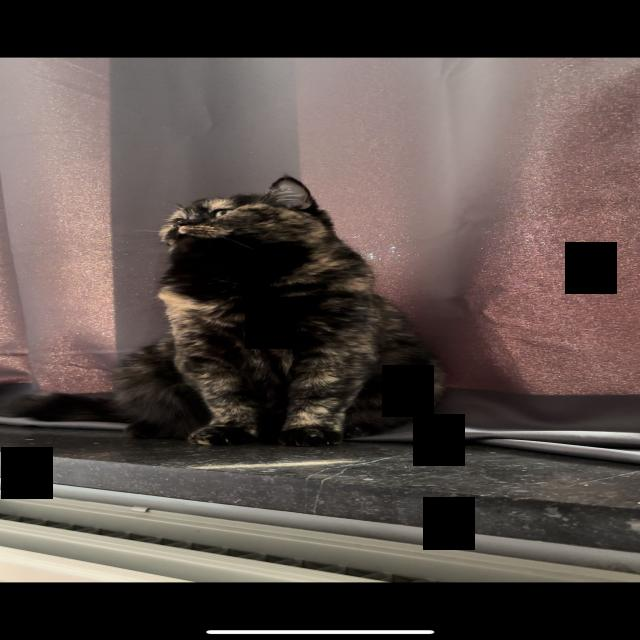authorized: (3, 174, 448, 447)
